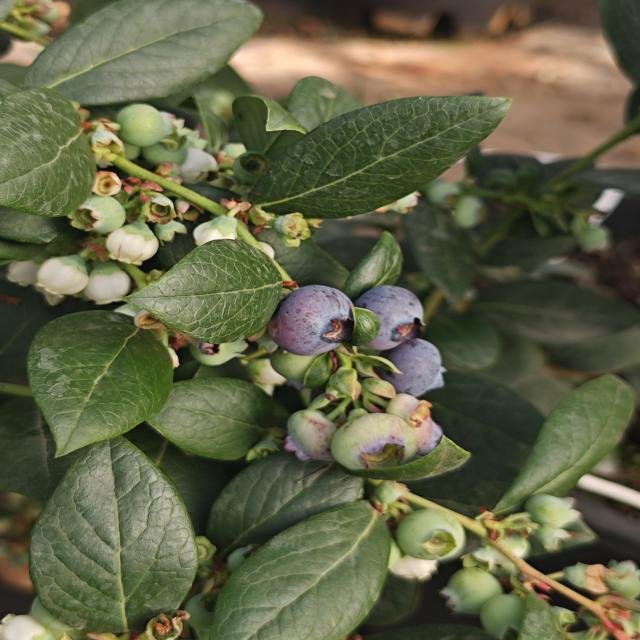ripe: (273, 283, 359, 358), (356, 273, 428, 347), (386, 337, 454, 400)
